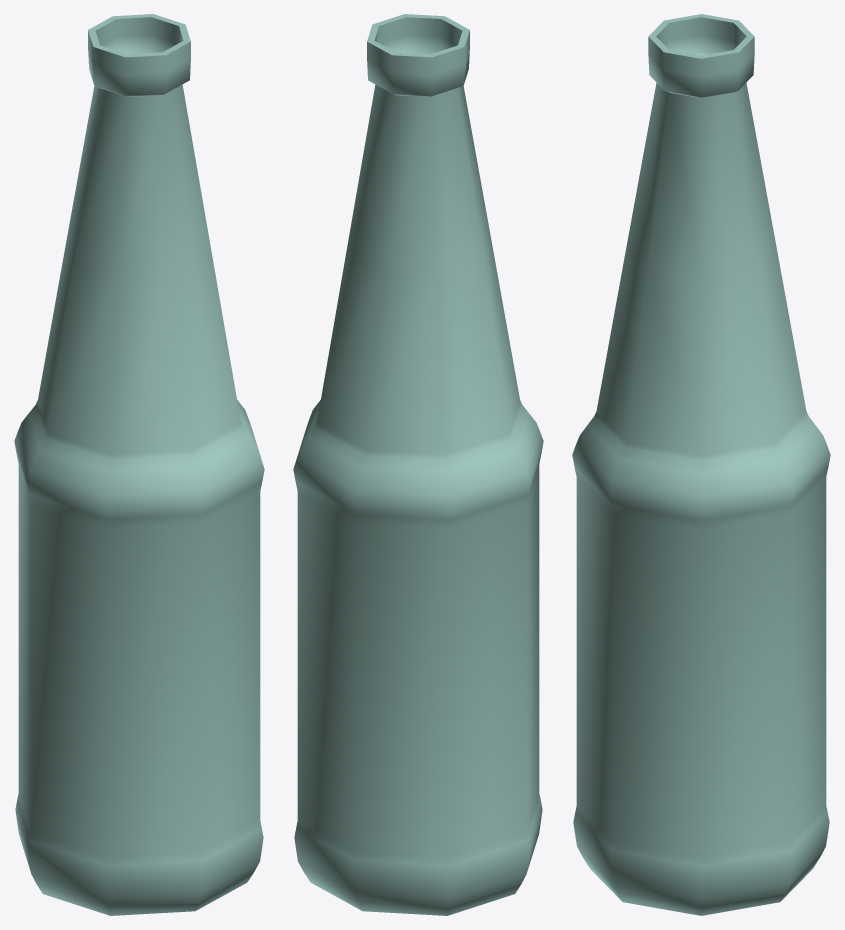
Rendered from Sem4_Prop_Flasche03_JT.fbx.
3 renders of one model, left to right at view 1: azimuth 30°, elevation 25°; view 2: azimuth 150°, elevation 25°; view 3: azimuth 270°, elevation 25°, orthographic.
Visible parts, largest first — view 1: Flasche03; view 2: Flasche03; view 3: Flasche03.
Part boxes in pixels (box(x1,y1,x2,y2)): Flasche03: box(14, 14, 264, 915); Flasche03: box(293, 14, 543, 915); Flasche03: box(572, 14, 830, 915).
Size of the model in its own units: 5.07 by 18.03 by 5.07.
